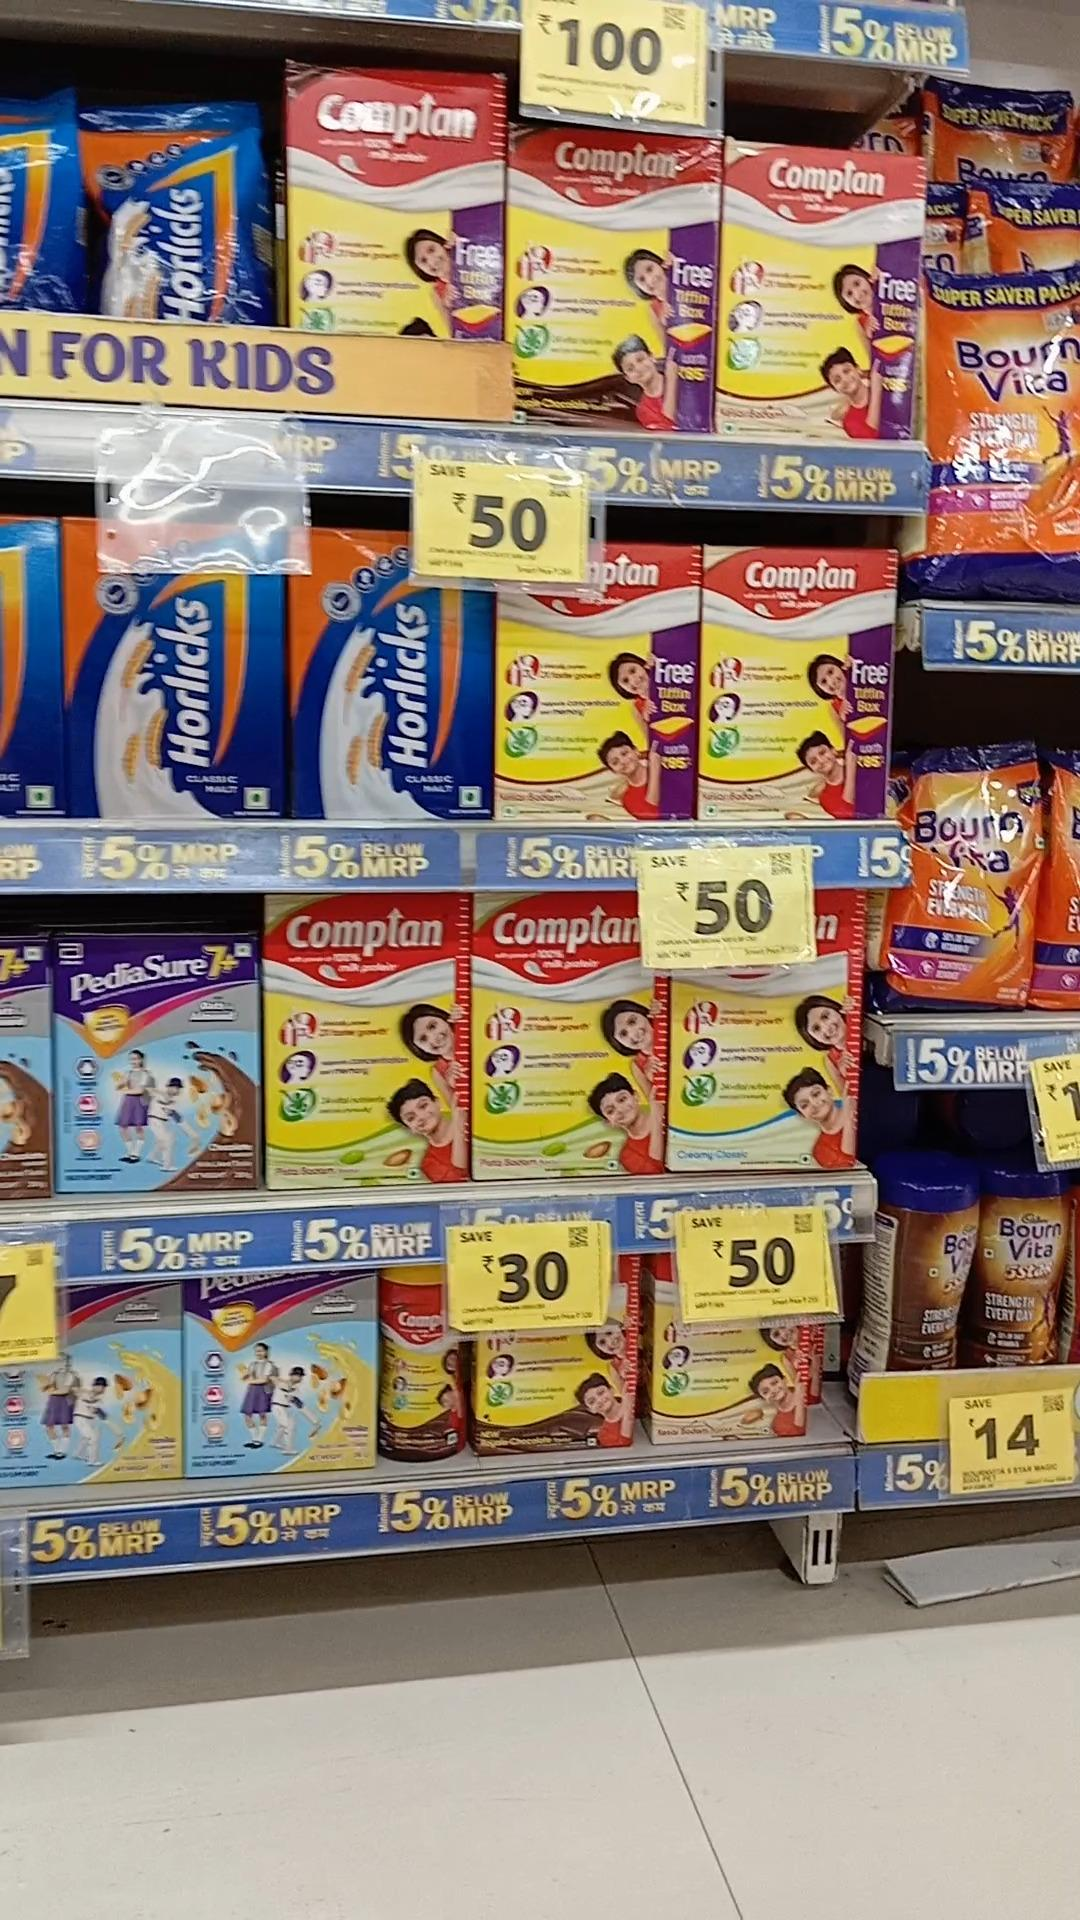BOURN_VITA_1_KG_POUCH: (924, 272, 1080, 595)
BOURN_VITA_500_G_POUCH: (907, 748, 1044, 1006)
BOURN_VITA_FIVE_STAR_MAGIC_500_G_JAR: (864, 1162, 968, 1370), (975, 1153, 1072, 1362)
COMPLAN_CHOCOLATE_200_GMS_JAR: (380, 1266, 471, 1462)
COMPLAN_CHOCOLATE_500_GMS_PACK: (508, 121, 712, 431), (293, 65, 493, 336)
COMPLAN_CREAMY_CLASSIC_500_G_PACK: (680, 947, 860, 1175)
COMPLAN_KESAR_BADAM_500_GMS_PACK: (719, 146, 916, 439), (707, 542, 897, 822), (500, 582, 696, 823)
COMPLAN_PISTA_BADAM_500_GMS_PACK: (276, 897, 471, 1189), (483, 891, 671, 1175)
HORLICK_CLASSIC_MALT_500_G_PACK: (66, 529, 284, 815), (287, 534, 496, 819)
HORLICK_CLASSIC_MALT_750_G_POUCH: (79, 98, 266, 324)
PEDIASURE_7_PLUS_CHOCOLATE_400_G_PACK: (59, 936, 260, 1192)
